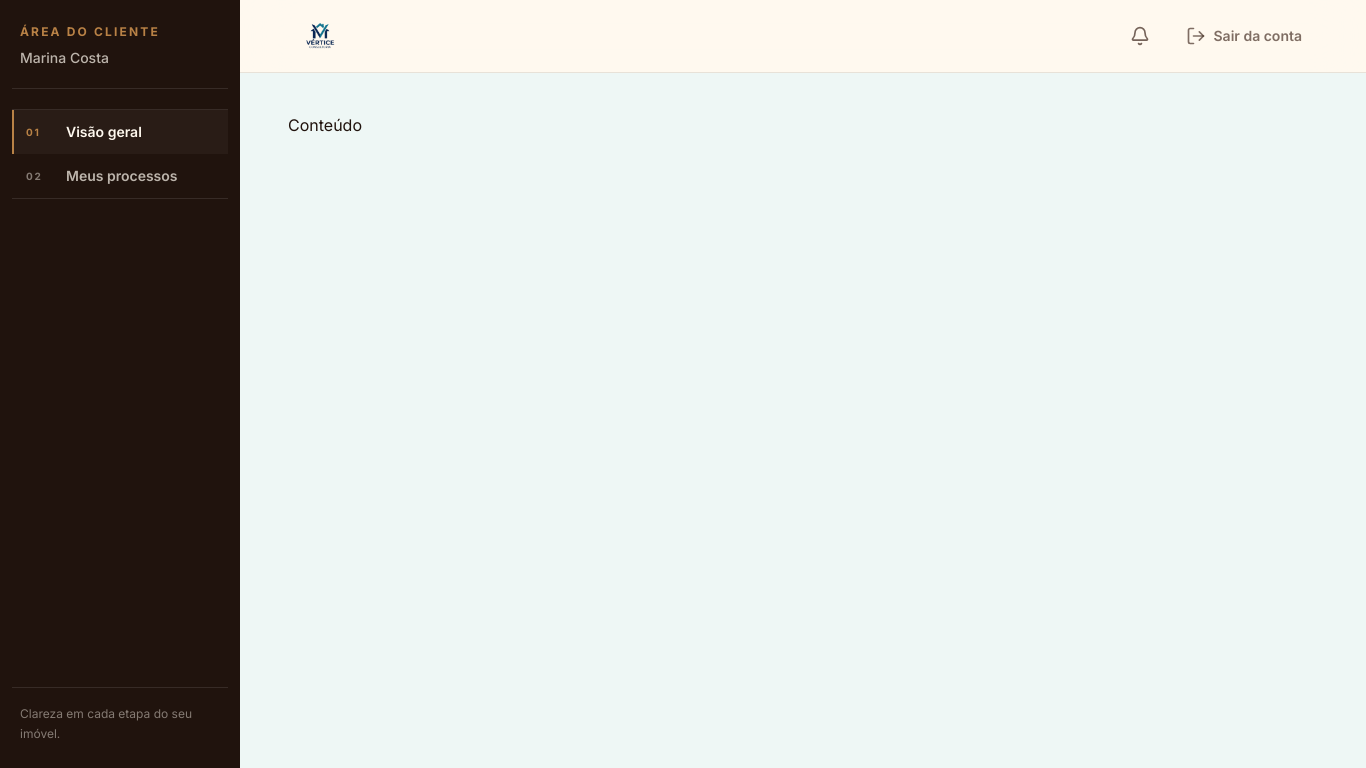
Test case: PortalShell › renders a clear empty notification state
Click the button named "Notificações".
click(1140, 36)  # box top-left (1118, 14), bottom-right (1162, 58)
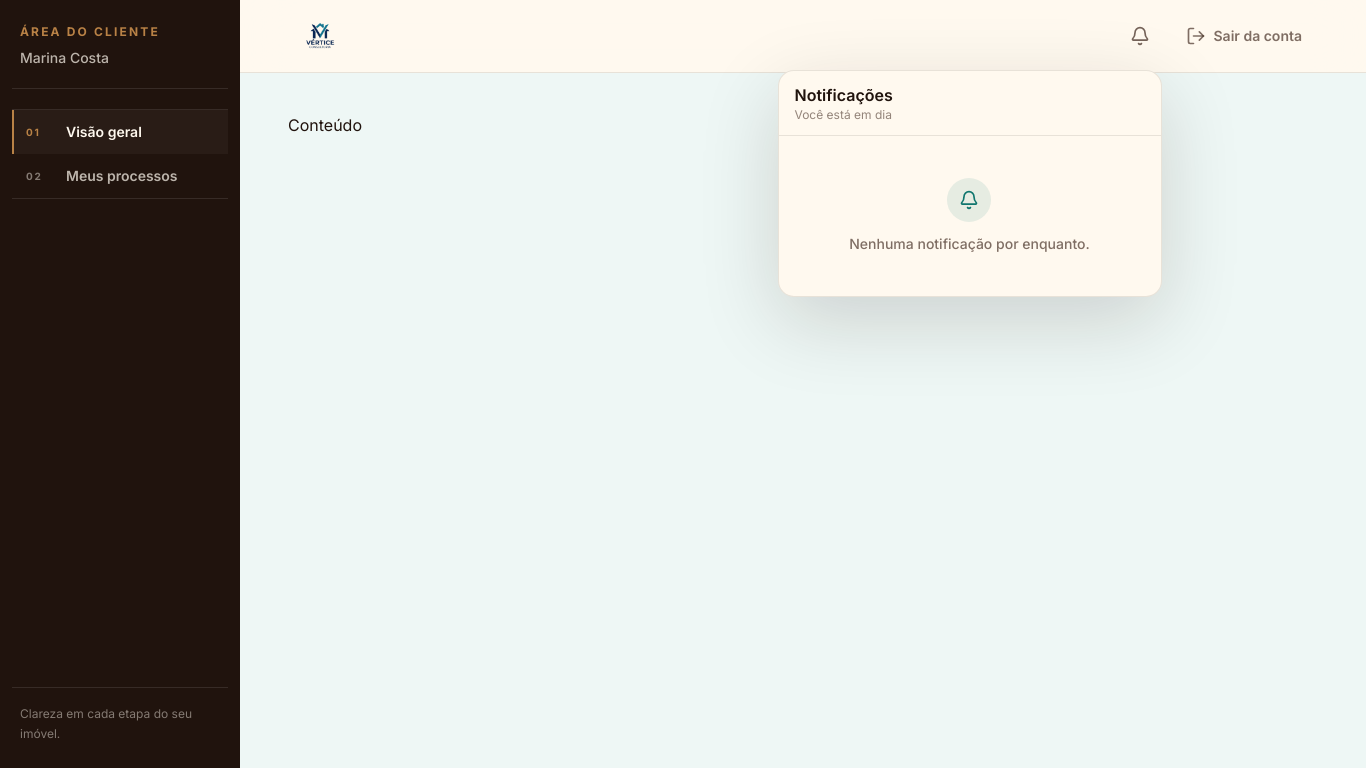
Expected: the text "Nenhuma notificação por enquanto." is shown, top-left (849, 234), bottom-right (1090, 254)
